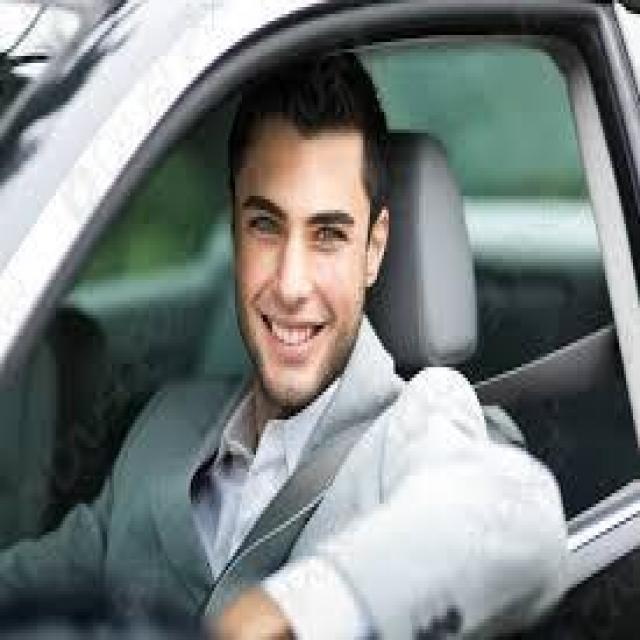seatbelt: (188, 309, 624, 583)
